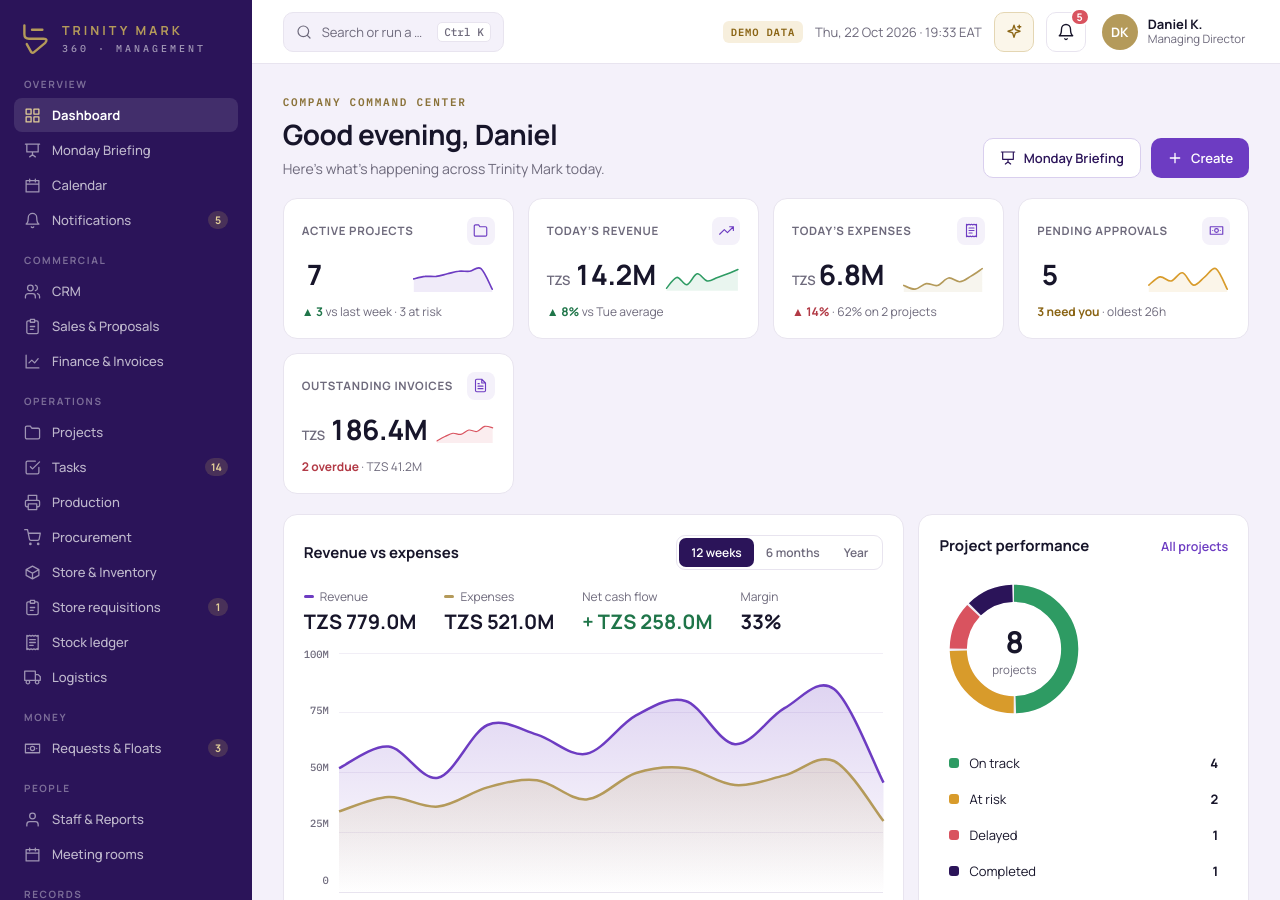
Test: command palette › opens with Ctrl+K and runs the first match on Enter
Press k
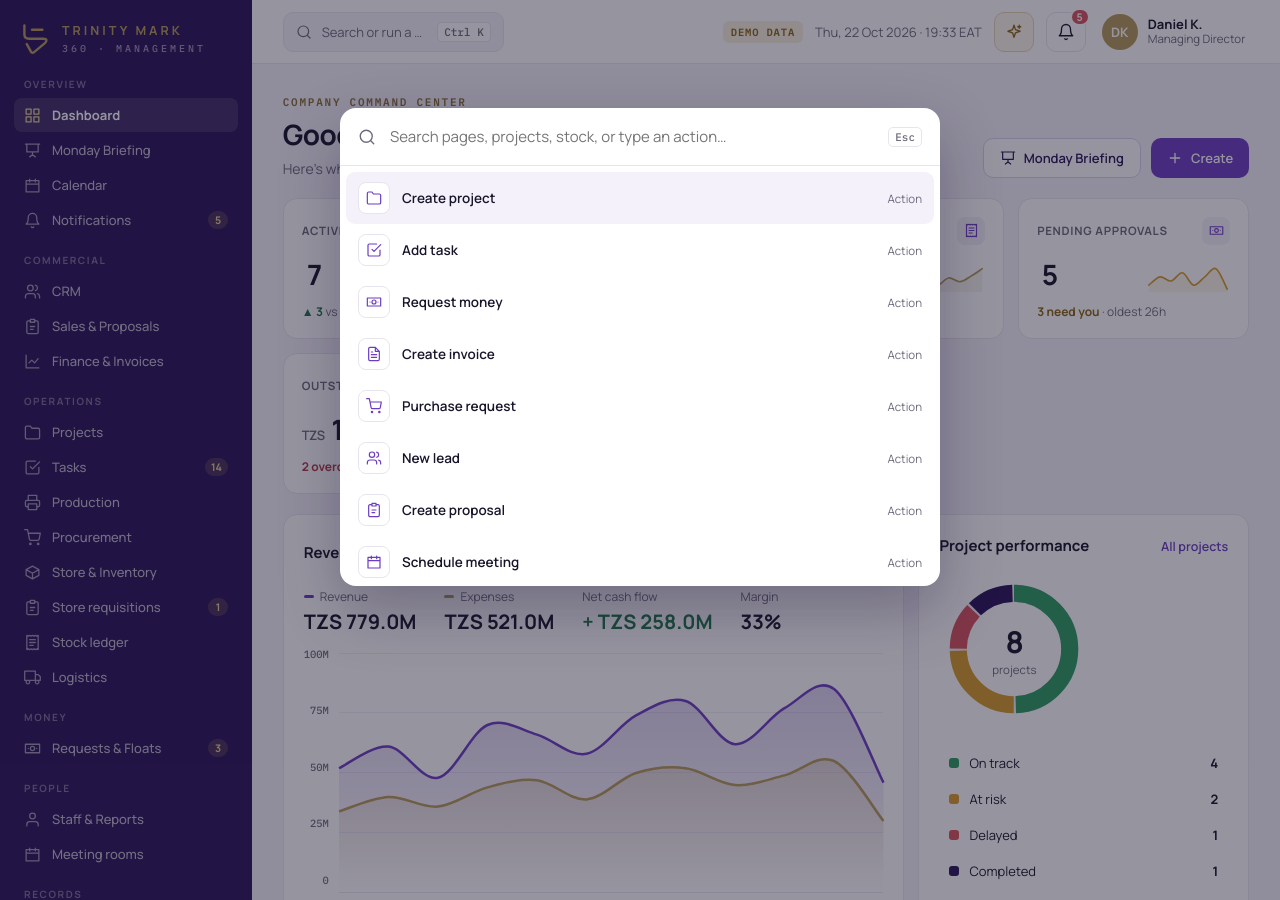
In the field with placeholder "Search pages, projects, stock, or type an action…": (632, 136) [388, 125, 876, 148], type "go to logistics"
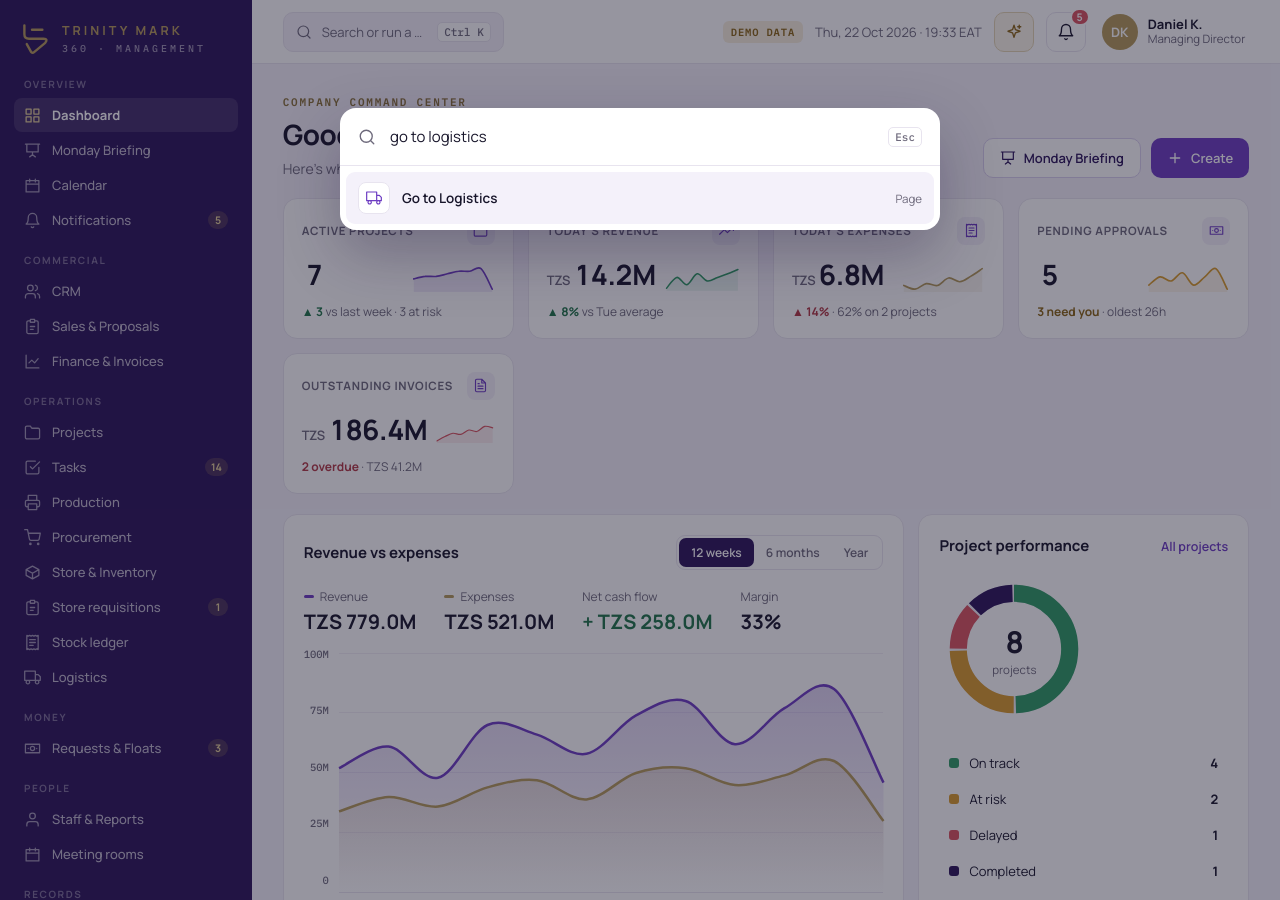
Press Enter in the field with placeholder "Search pages, projects, stock, or type an action…", box [388, 125, 876, 148]
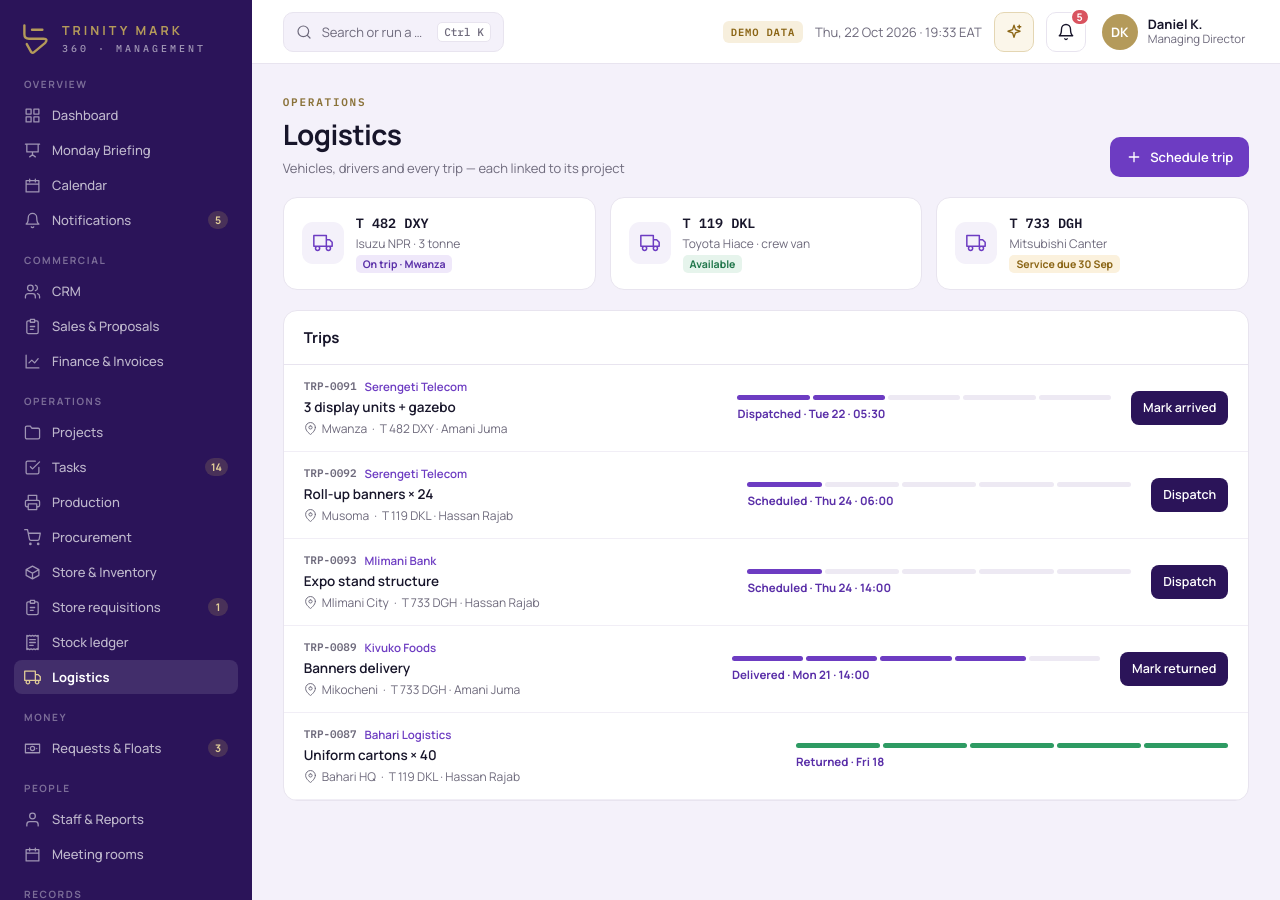
expect the text "Logistics" is shown: met, box [52, 668, 110, 686]
expect the text "Vehicles, drivers and every trip" is shown: met, box [283, 159, 625, 177]
